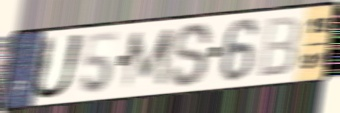5: (81, 28, 122, 97)
6: (220, 16, 260, 84)
B: (256, 14, 302, 80)
M: (120, 25, 176, 93)
S: (168, 21, 215, 90)
U: (28, 32, 88, 102)
